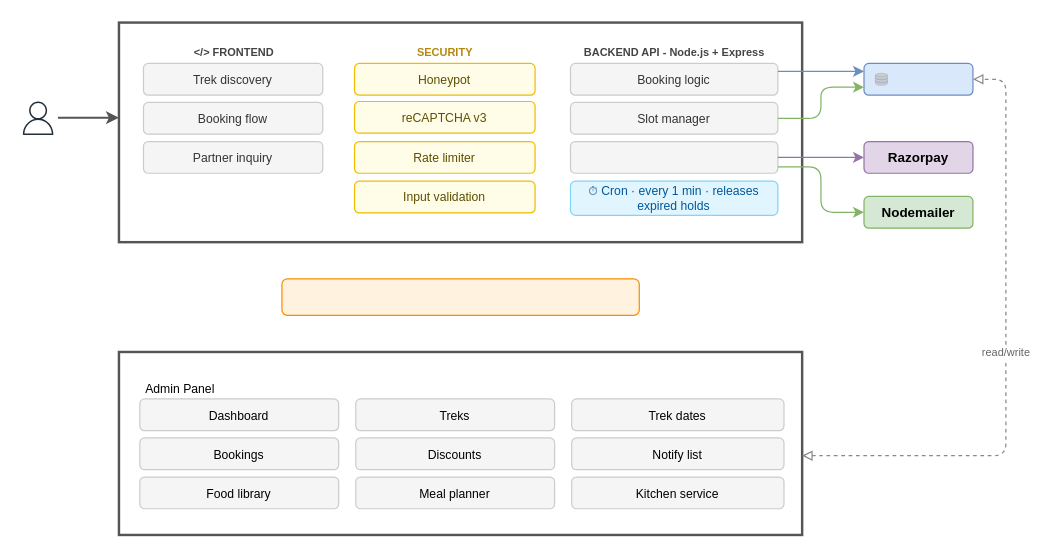
This 1050x556 diagram has some shape labels left out. The centre of each missing label's shape, as x and y in pixels:
10-min slot holds · handle deadlocks · prevent double booking: [460,296]
MySQL: [918,78]
Payment handler: [673,156]
